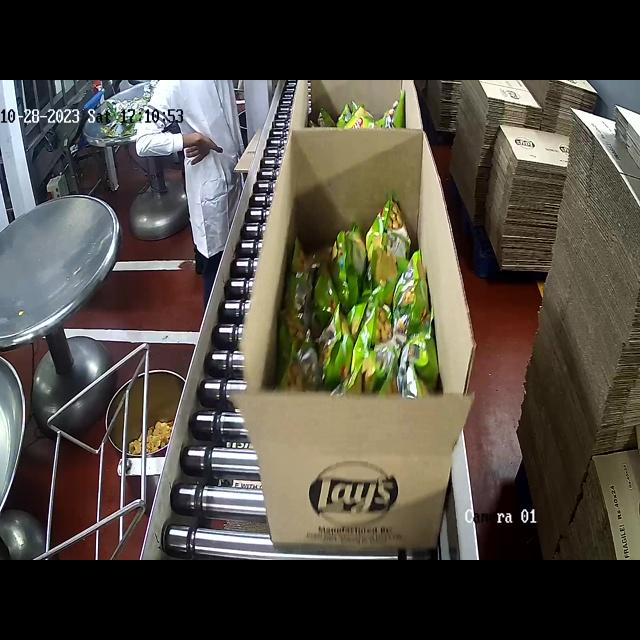yogurt: (287, 190, 438, 399), (309, 89, 410, 137)
